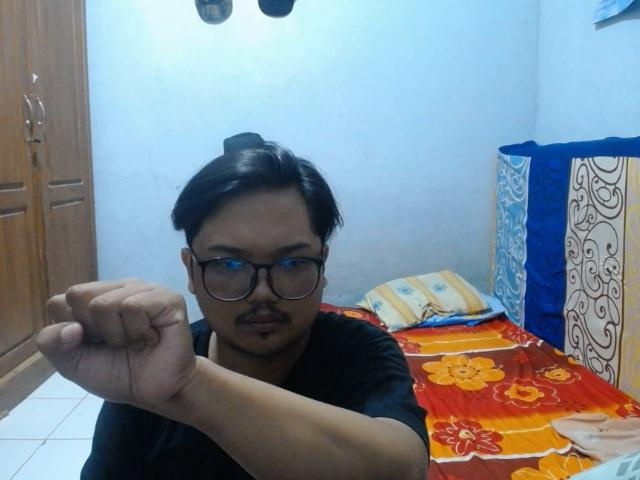Grab: (32, 270, 202, 418)
